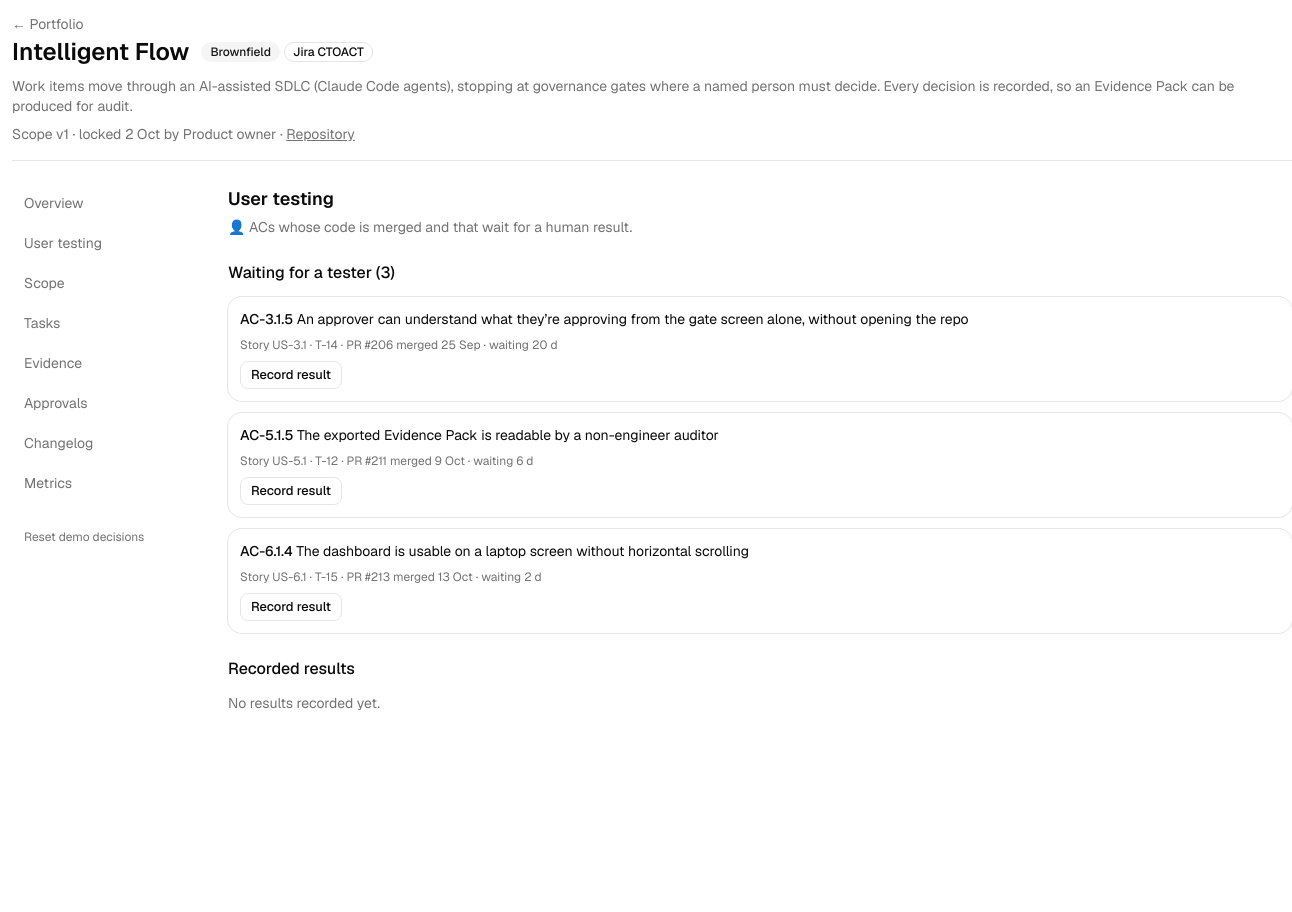
Test case: UserTestingView › saves a pass: the AC leaves the queue and appears in the recorded results
Click the button with aria-label "Record result for AC-3.1.5" at coordinates (291, 375), box [240,361,342,389]
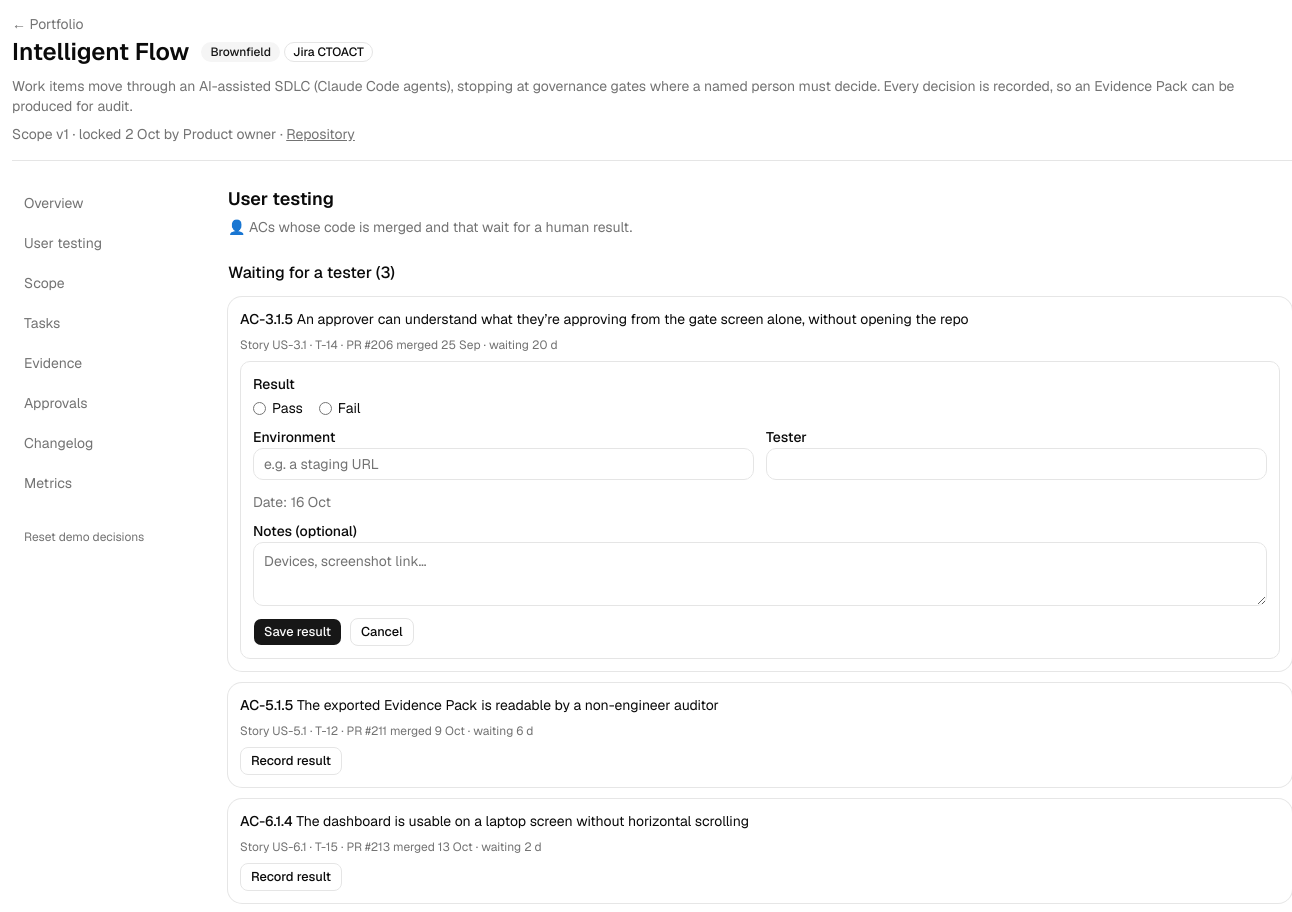
Click the radio button labelled "Pass" at coordinates (260, 408), box [253,402,266,414]
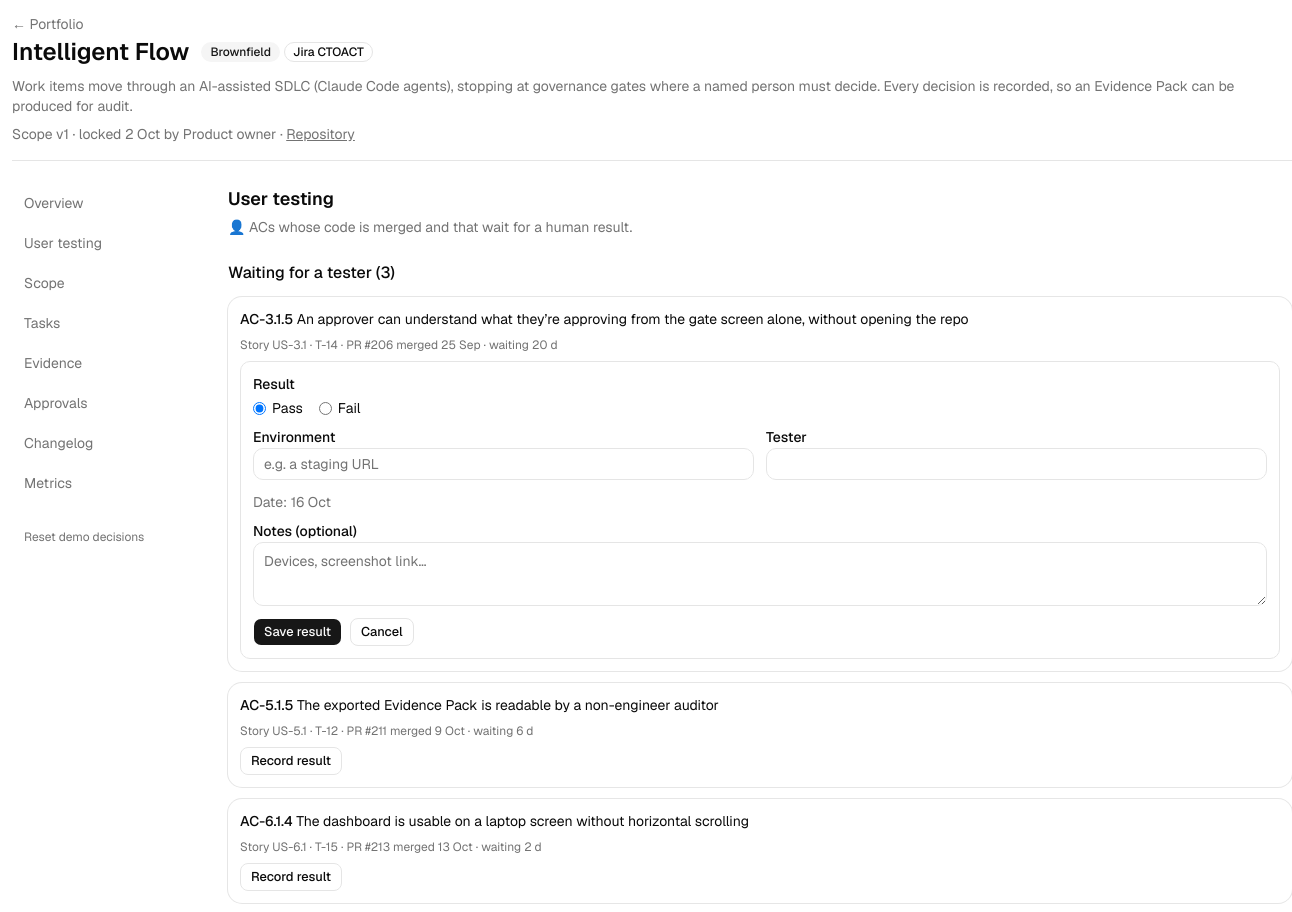
Type "Staging" into the field labelled "Environment" at coordinates (504, 464), box [253,448,754,480]
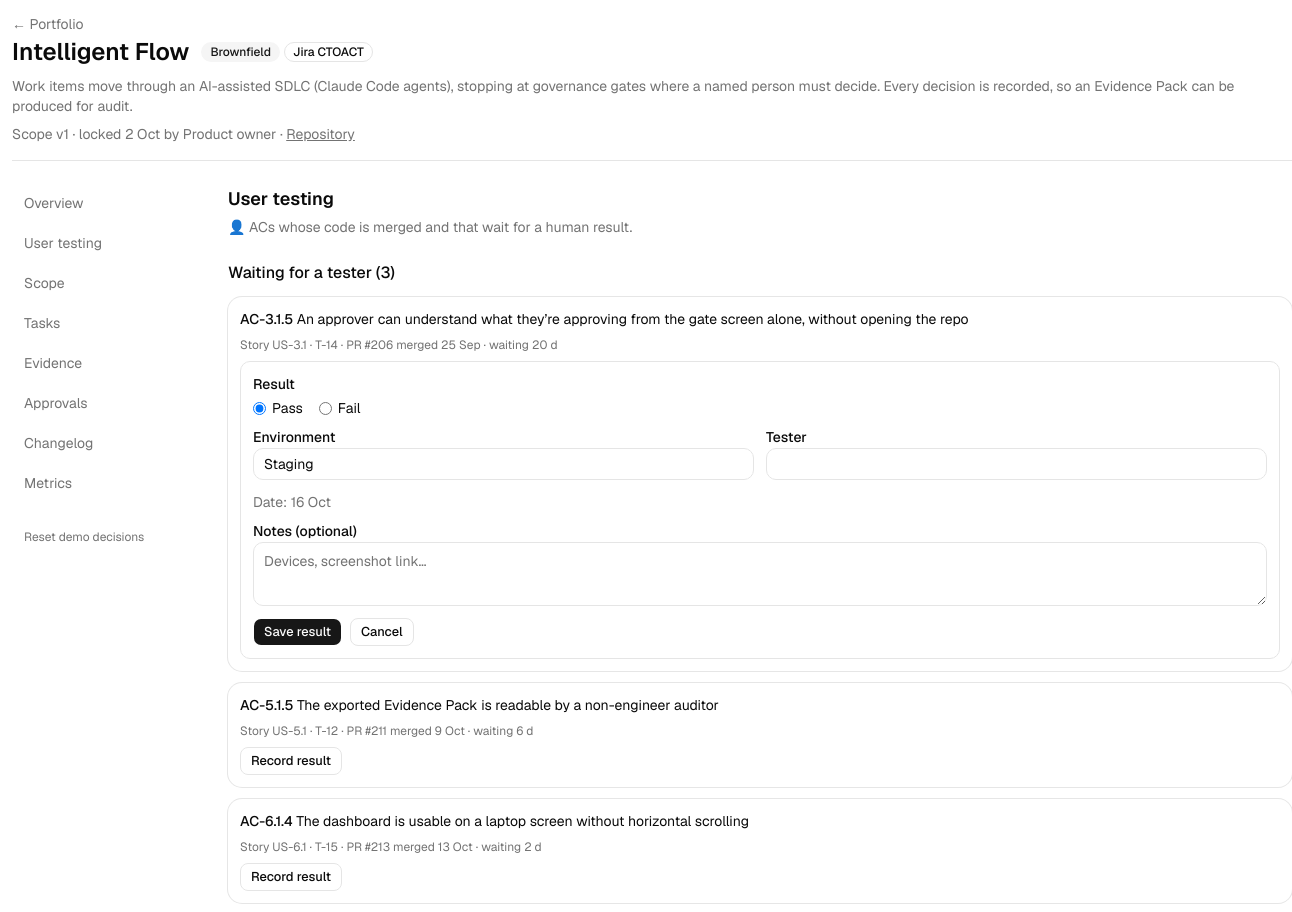
Type "Demo tester" into the field labelled "Tester" at coordinates (1016, 464), box [766,448,1267,480]
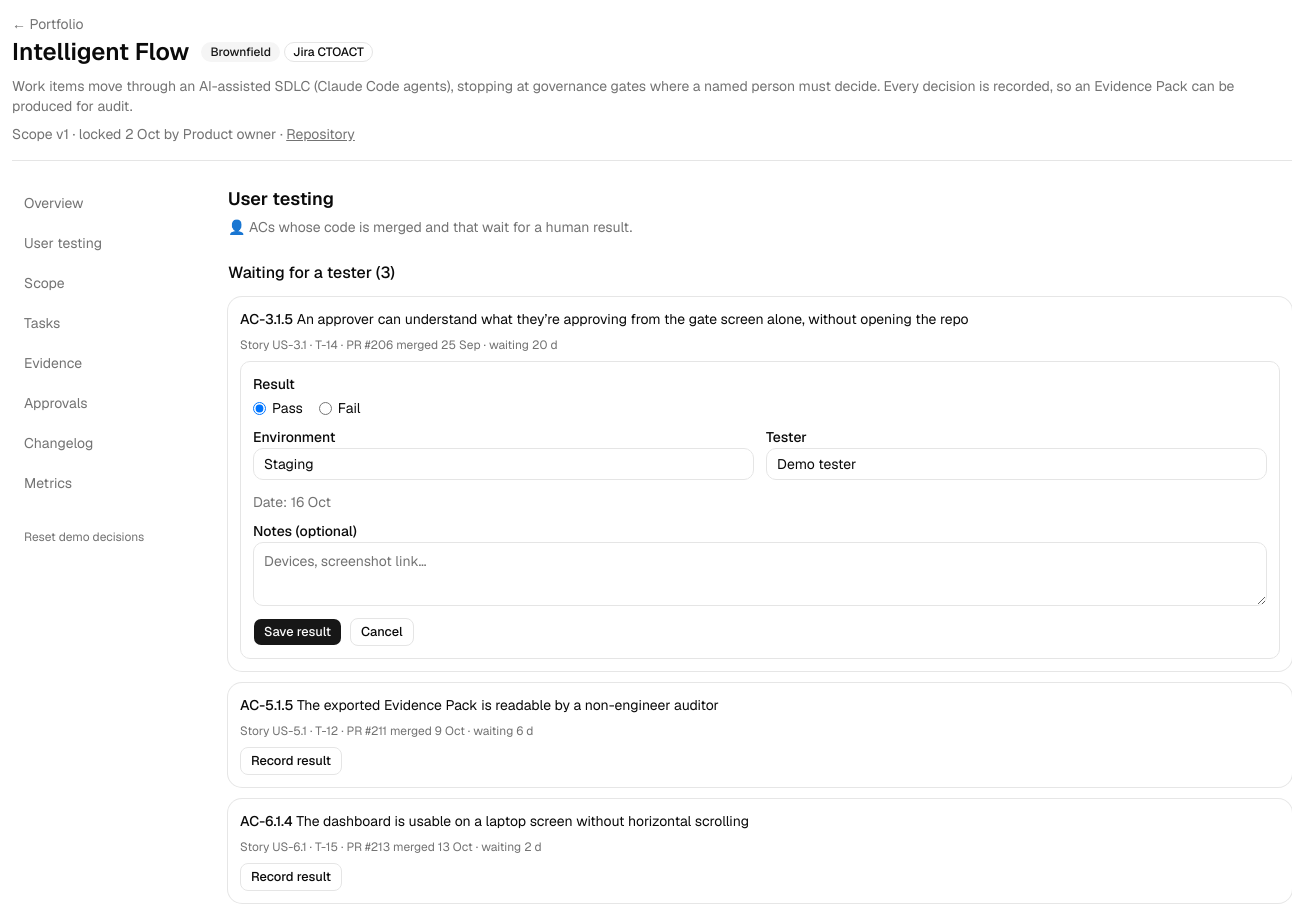
Click the button "Save result" at coordinates (297, 632), box [253,618,342,646]
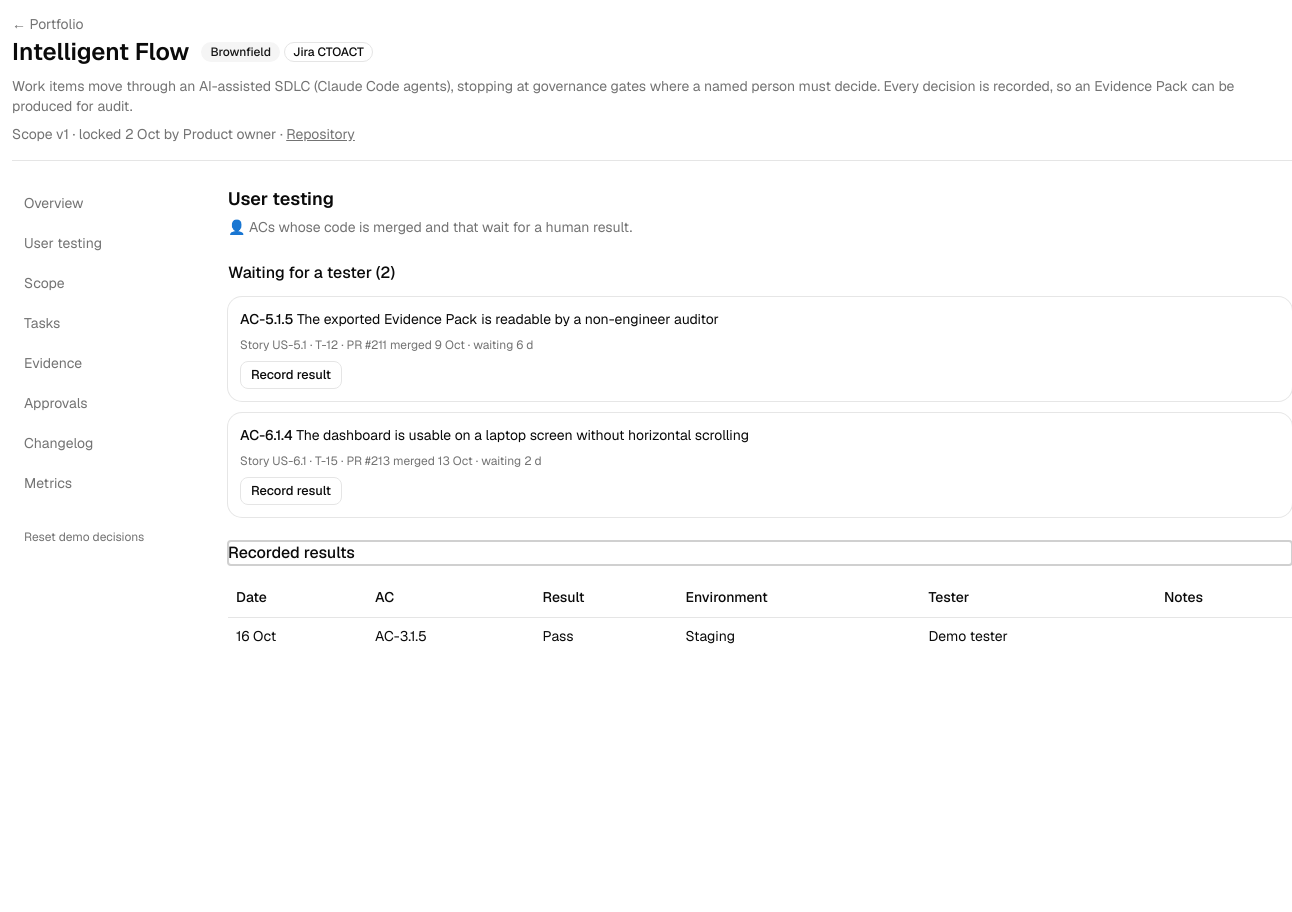
Expected: the cell "AC-3.1.5" is shown, [367,617,535,654]
Expected: the cell "Pass" is shown, [535,617,678,654]
Expected: the heading "Waiting for a tester (2)" is shown, [228,262,395,283]
